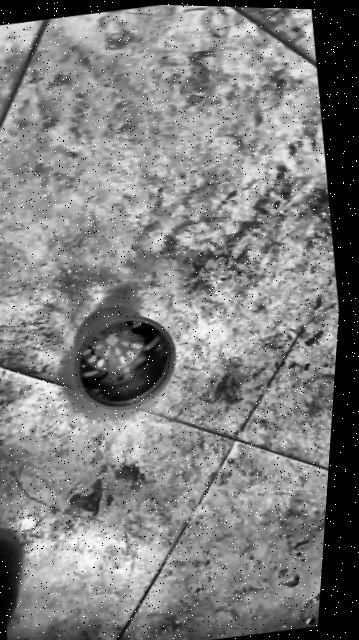pot: (60, 298, 186, 418)
